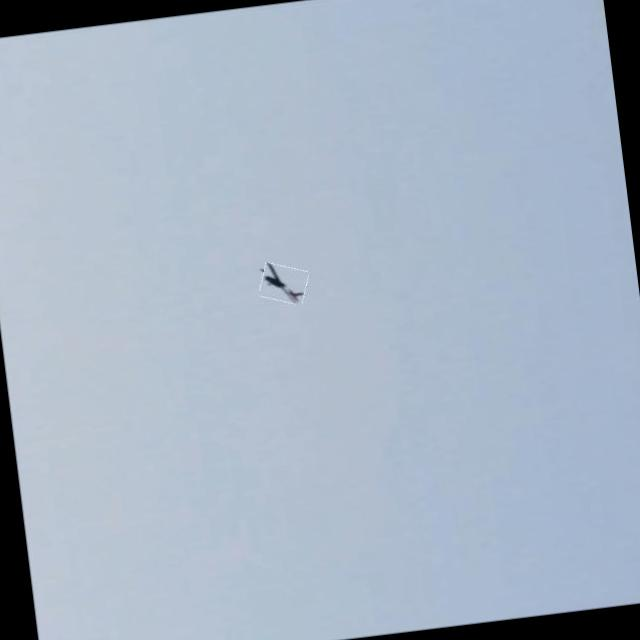UAV: (250, 266, 334, 312)
